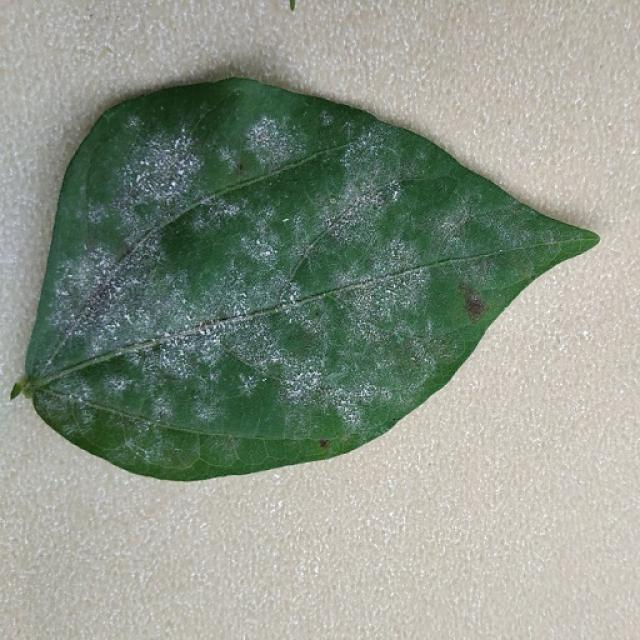Blackgram: (12, 78, 598, 480)
Powdery_Mildew: (248, 256, 424, 406), (145, 102, 335, 220), (286, 155, 416, 267), (115, 120, 209, 225), (51, 246, 127, 326), (446, 185, 531, 254), (343, 271, 421, 331), (334, 126, 408, 187), (272, 348, 337, 405), (421, 186, 480, 245), (241, 112, 298, 164), (185, 312, 249, 346), (199, 192, 251, 230), (188, 379, 231, 423), (241, 232, 287, 271), (156, 133, 196, 170), (85, 250, 117, 283), (87, 200, 109, 226), (237, 373, 259, 393), (124, 115, 144, 134), (285, 382, 307, 399), (110, 375, 129, 392), (136, 173, 145, 183)
